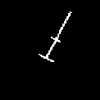double_crochet: (39, 12, 71, 61)
